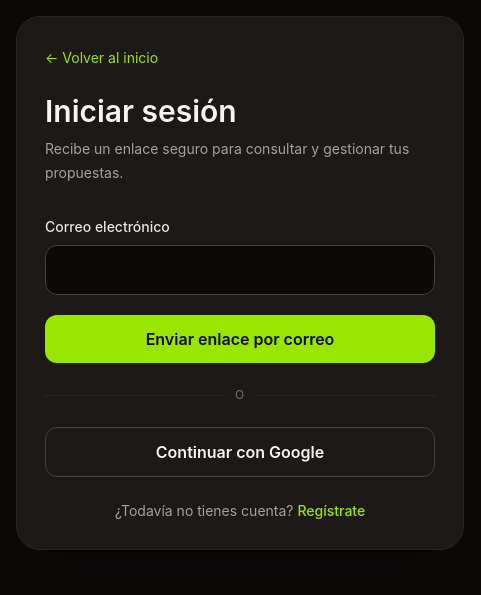
Test: AuthPage › validates the email before contacting Supabase
Type "correo-invalido" into the field labelled "Correo electrónico" at (240, 270), box left=45, top=245, right=435, bottom=295
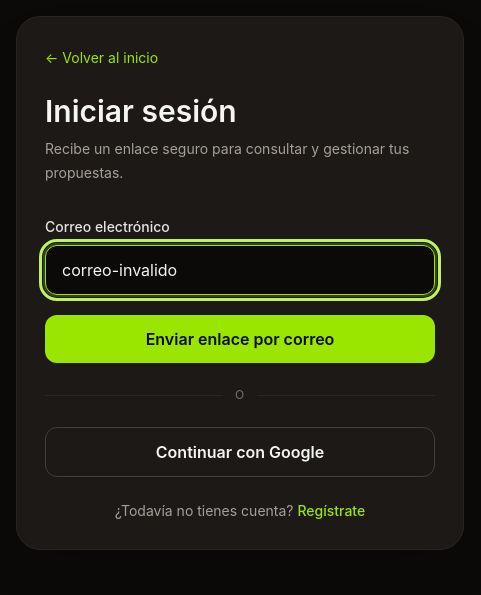
Click the button "Enviar enlace por correo" at (240, 339), box left=45, top=315, right=435, bottom=363
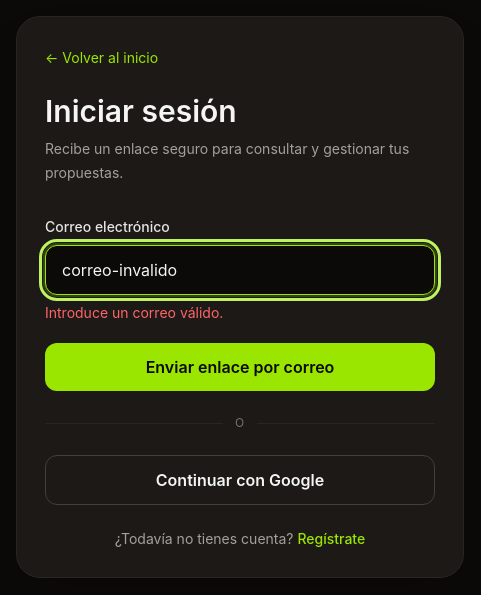
Expected: the text "Introduce un correo válido." is shown, left=45, top=304, right=223, bottom=321
